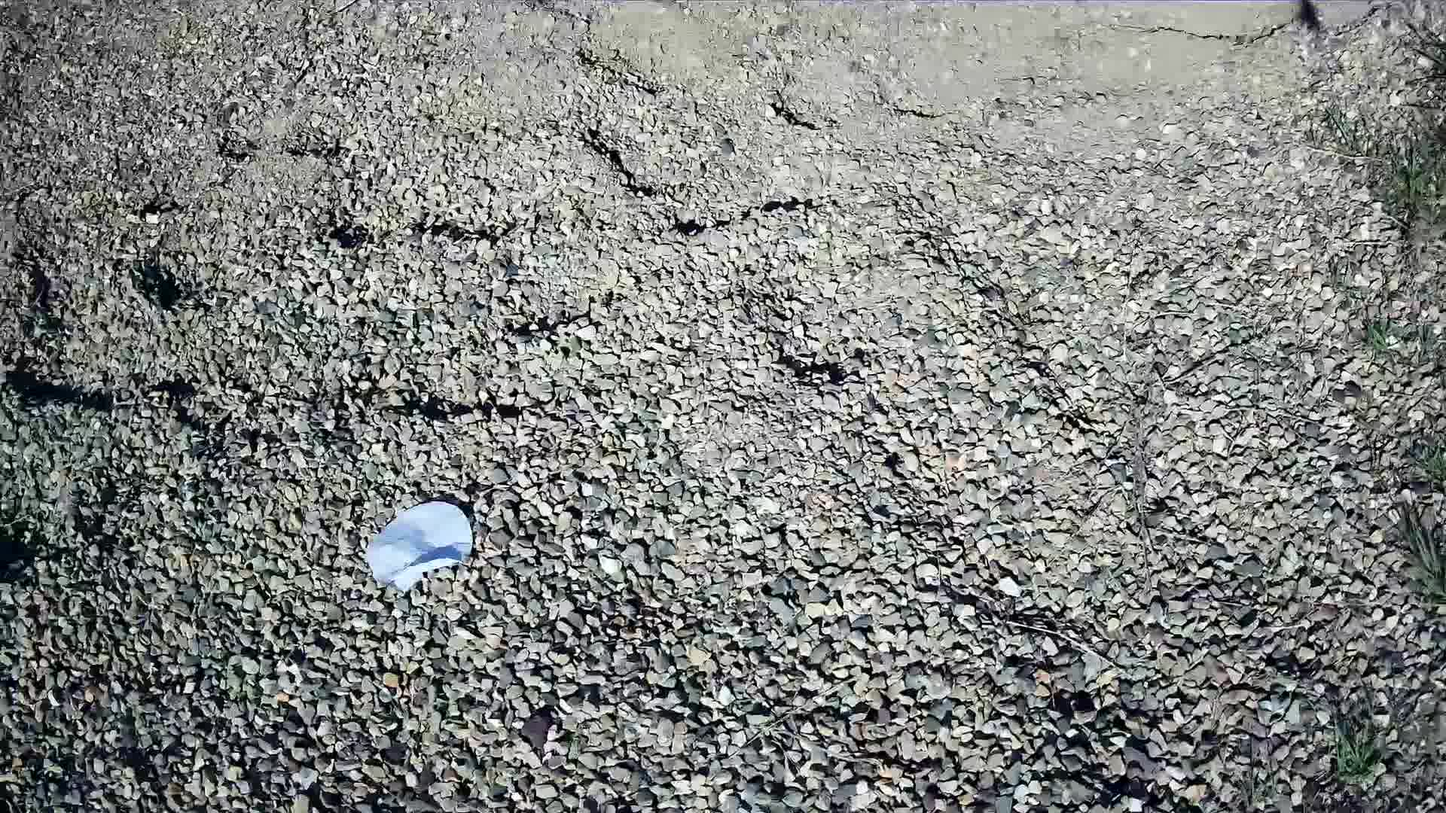Target: (368, 500, 472, 588)
